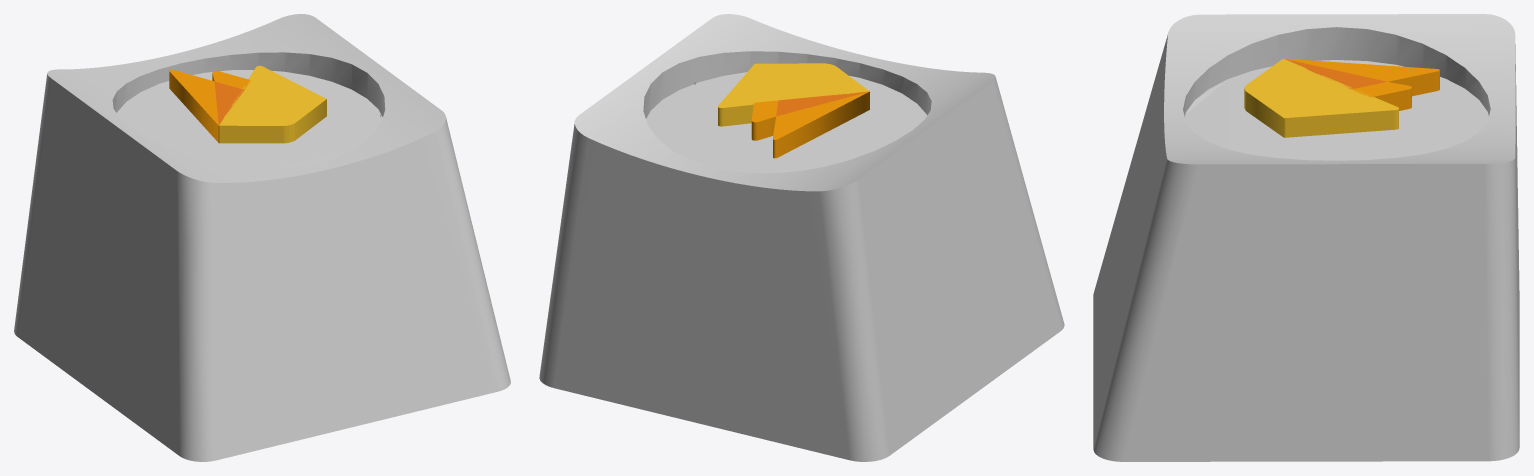
File: firebase-keycaps.gltf
The picture shows the model from 3 angles, left to right: view 1: azimuth 30°, elevation 25°; view 2: azimuth 150°, elevation 25°; view 3: azimuth 270°, elevation 25°; orthographic projection. The views are drawn at different scales.
Parts seen in each view (by area): view 1: KEYCAP, Curve.003, Curve.004, Curve.002; view 2: KEYCAP, Curve.003, Curve.004, Curve.001, Curve.002; view 3: KEYCAP, Curve.003, Curve.004, Curve.001, Curve.002.
Part boxes in pixels (<box>): KEYCAP: <box>14,14,510,461</box>; Curve.003: <box>218,65,326,143</box>; Curve.004: <box>169,69,218,142</box>; Curve.002: <box>214,81,244,125</box>; KEYCAP: <box>539,14,1064,461</box>; Curve.003: <box>718,63,869,126</box>; Curve.004: <box>773,91,869,158</box>; Curve.001: <box>751,100,778,140</box>; Curve.002: <box>776,91,868,116</box>; KEYCAP: <box>1093,14,1519,461</box>; Curve.003: <box>1244,58,1398,137</box>; Curve.004: <box>1284,58,1439,96</box>; Curve.001: <box>1352,82,1411,110</box>; Curve.002: <box>1285,59,1387,89</box>.
Size of the model in its own units: 0.0753 by 0.0556 by 0.0753.
